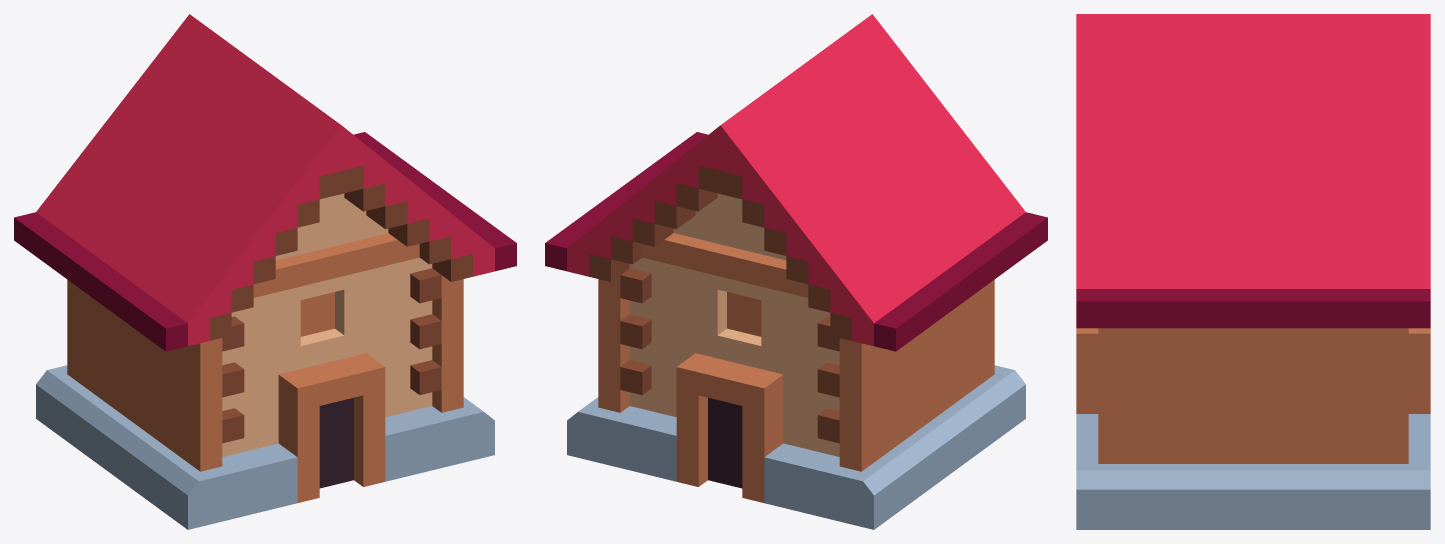
File: house.glb
3 renders of one model, left to right at view 1: azimuth 30°, elevation 25°; view 2: azimuth 150°, elevation 25°; view 3: azimuth 270°, elevation 25°, orthographic. The views are drawn at different scales.
Parts seen in each view (by area): view 1: generated(Clone); view 2: generated(Clone); view 3: generated(Clone).
Boxes of the visible parts, x1,y1,x2,y2 form: generated(Clone): (14,14,516,529); generated(Clone): (545,14,1047,529); generated(Clone): (1076,14,1430,529).
Bounding box in the file's own units: 16 × 16 × 12.
